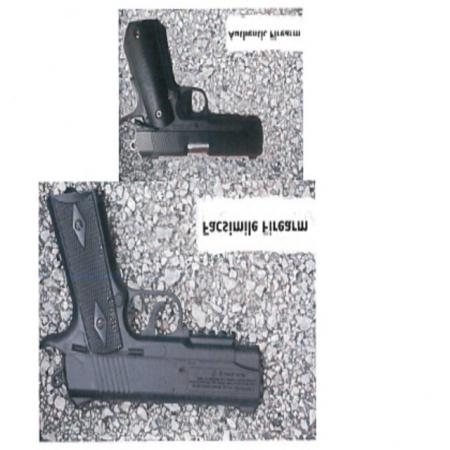Pistol: (43, 184, 259, 424), (124, 9, 264, 175)
